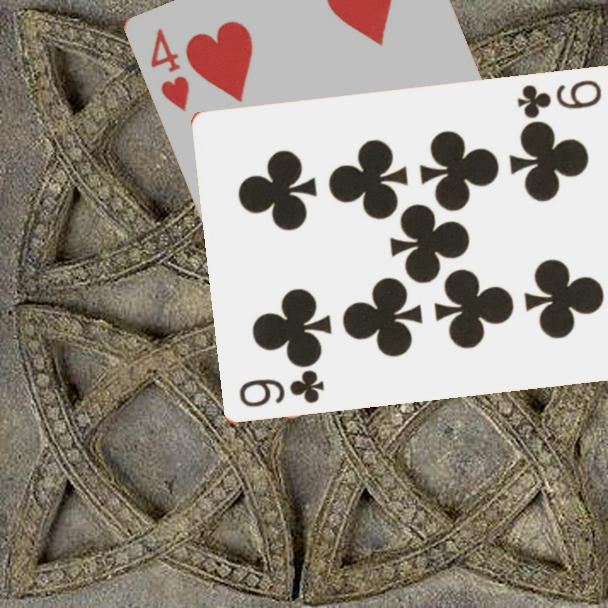c09: (513, 76, 605, 120), (236, 366, 328, 410)
h04: (147, 25, 193, 116)
